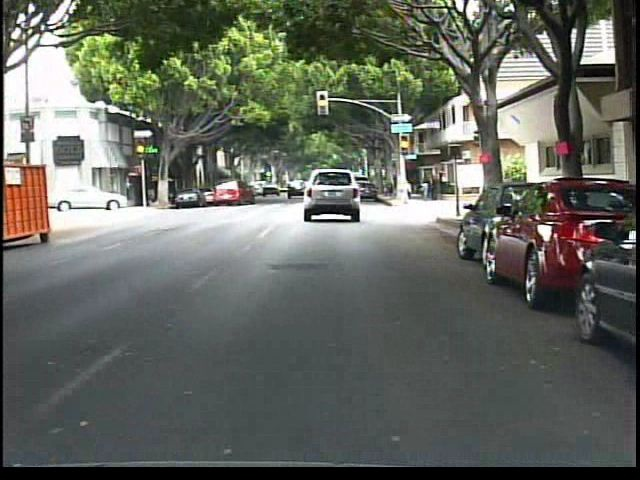person: (420, 172, 433, 202)
